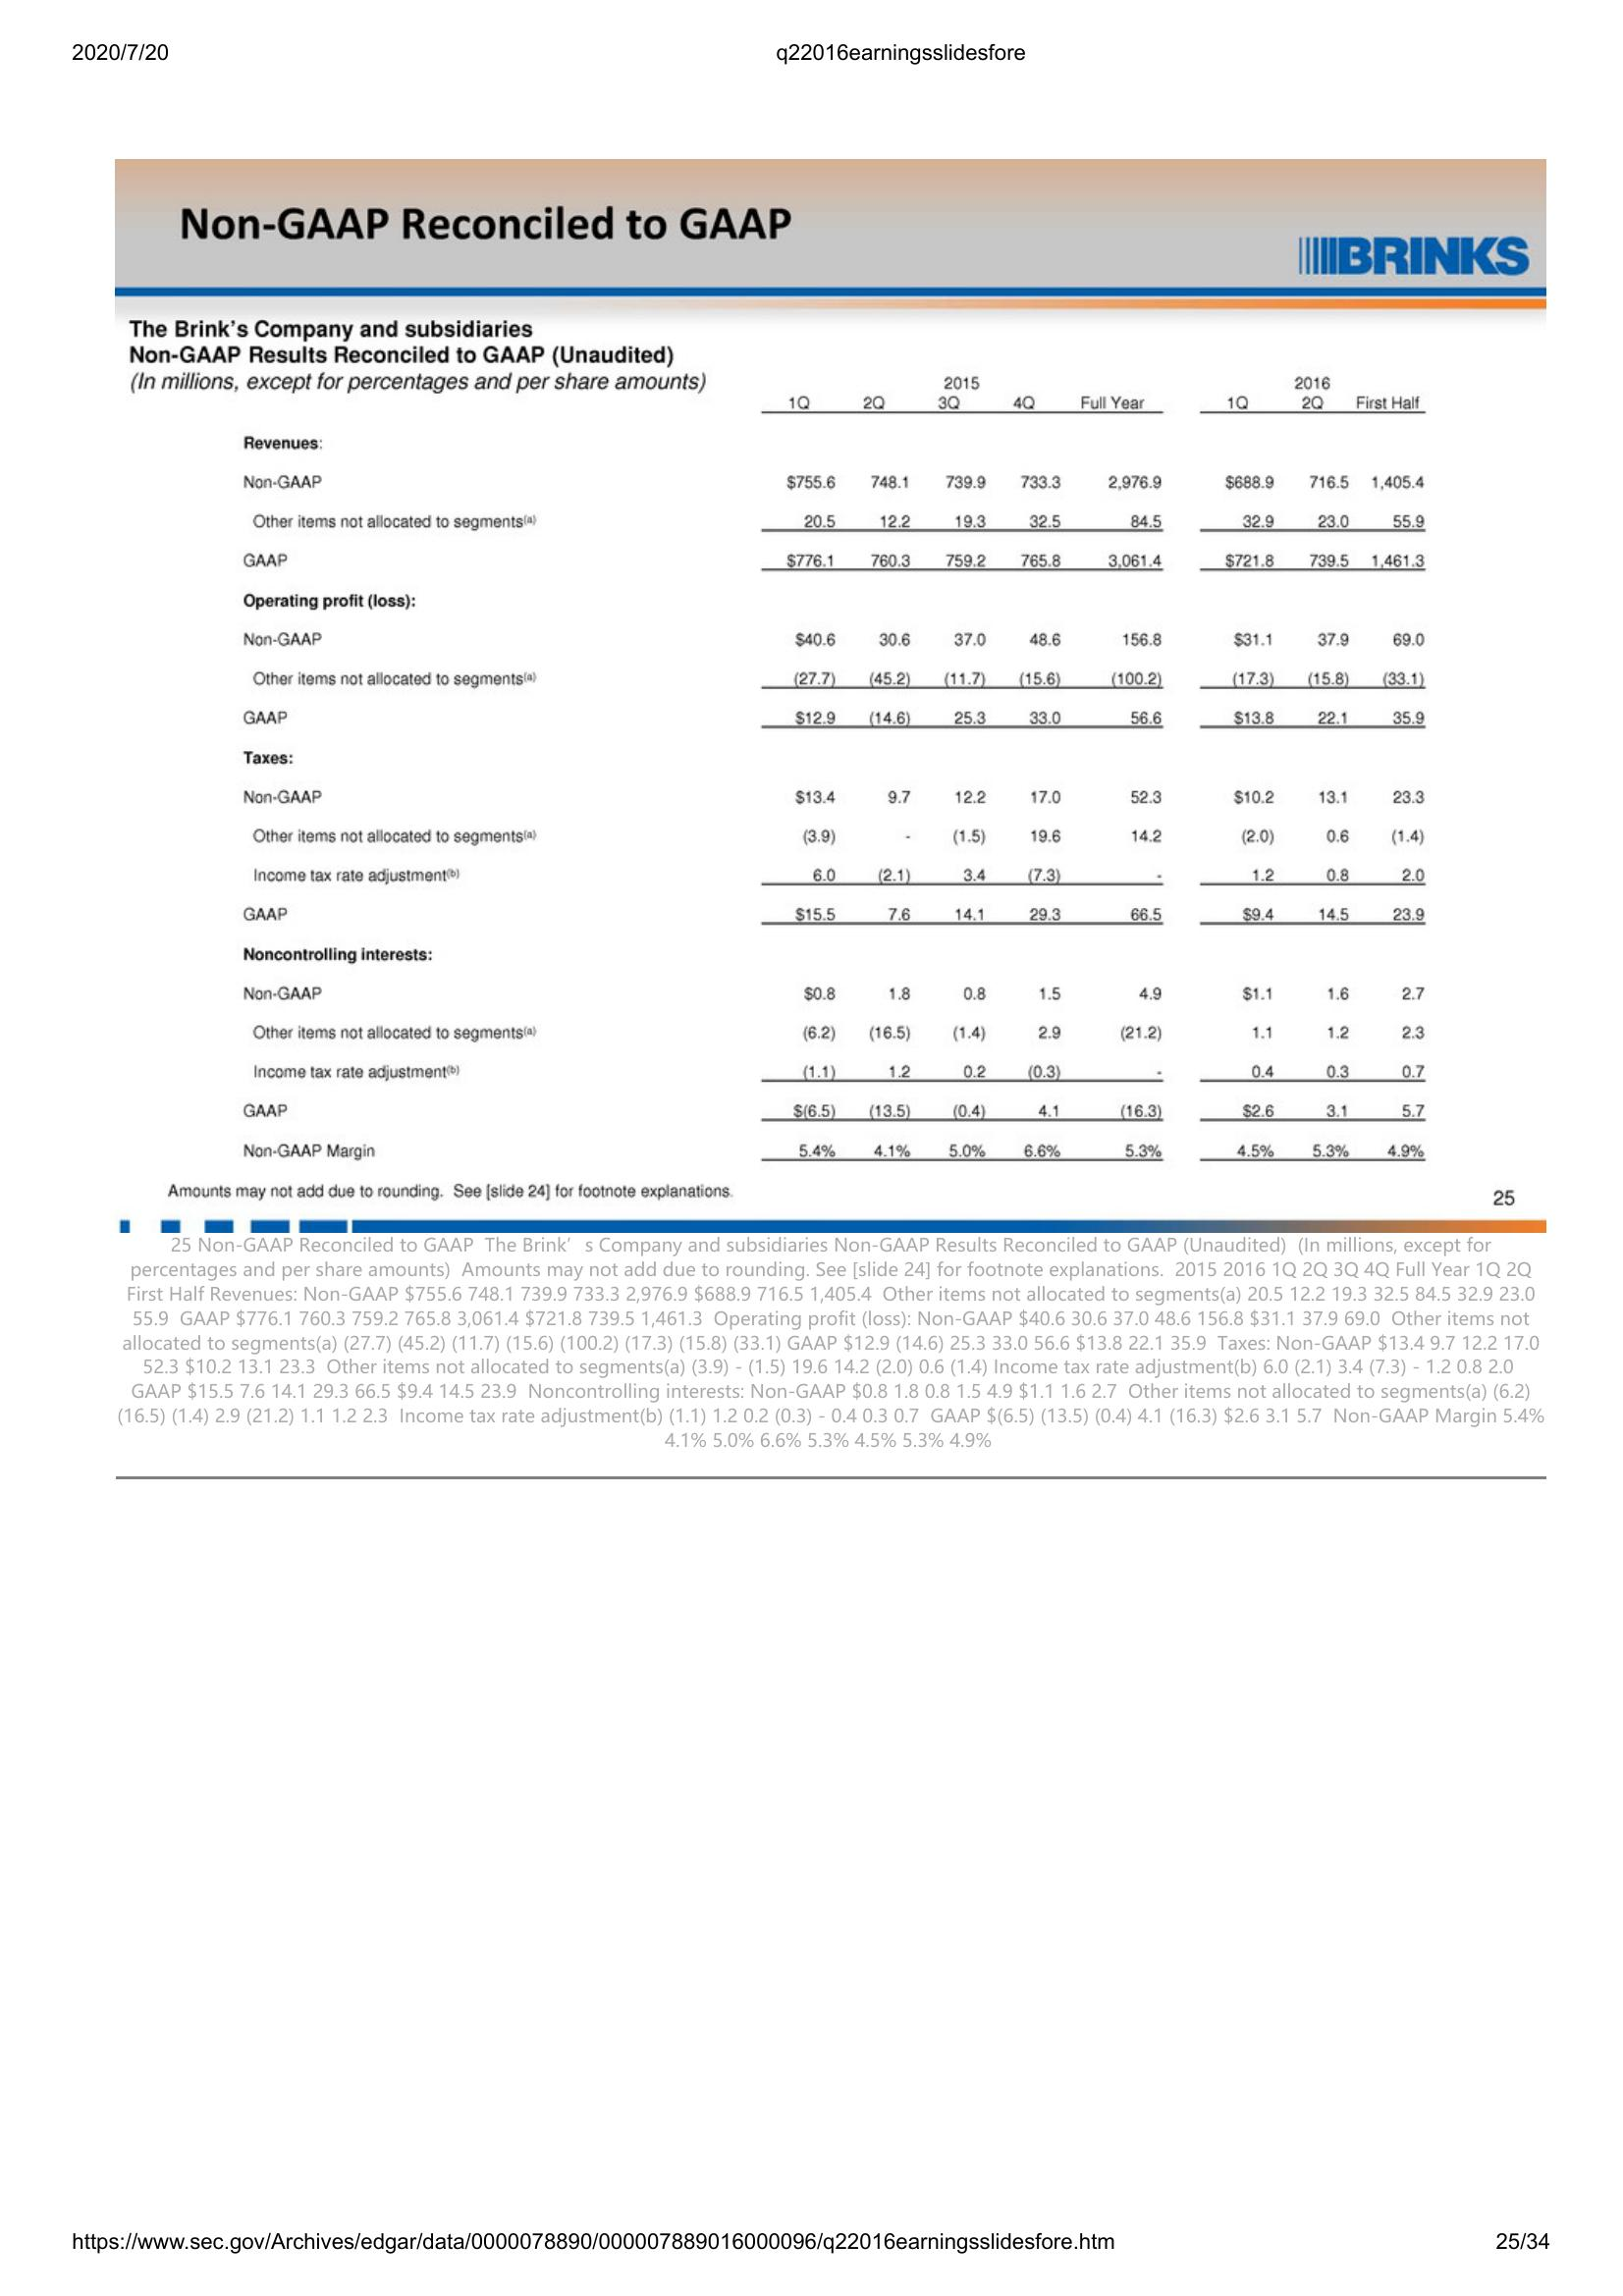table: (126, 318, 1447, 1167)
